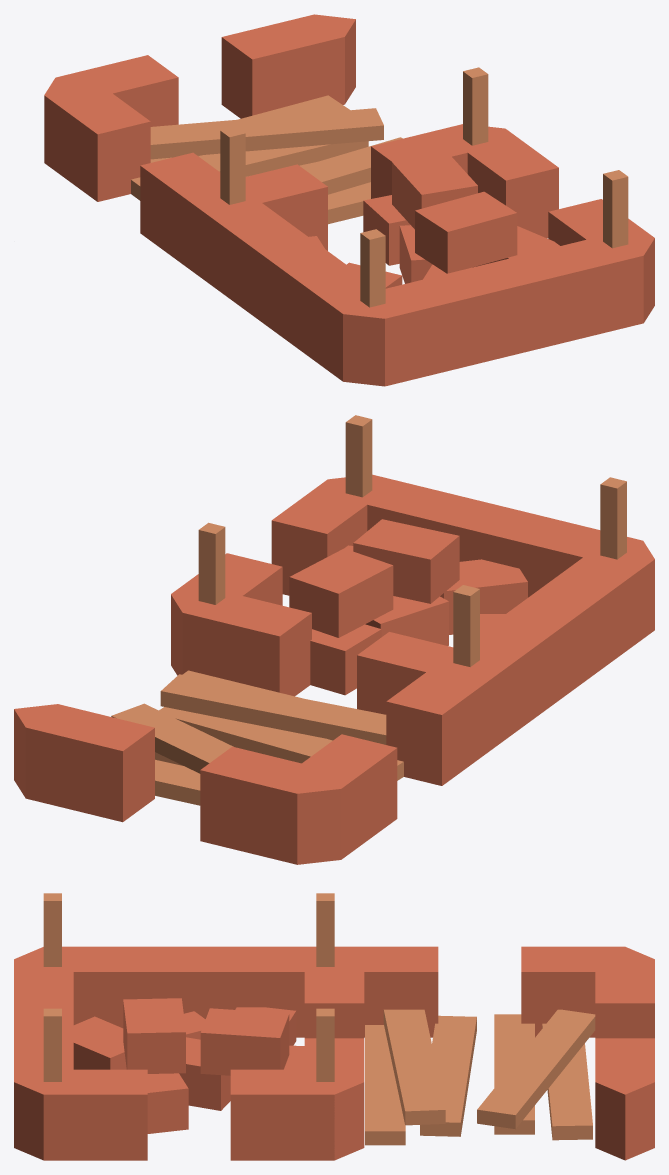
Rendered from Casa12Rota.FBX.
3 views of the same model, one above another, from view 1: azimuth 30°, elevation 25°; view 2: azimuth 150°, elevation 25°; view 3: azimuth 270°, elevation 25° (orthographic). The views are drawn at different scales.
Parts seen in each view (by area): view 1: wall_border_278; view 2: wall_border_278; view 3: wall_border_278.
Boxes of the visible parts, x1=… form: wall_border_278: x1=44, y1=14, x2=654, y2=386; wall_border_278: x1=14, y1=415, x2=654, y2=864; wall_border_278: x1=14, y1=893, x2=654, y2=1160.
Size of the model in its own units: 1602 by 500 by 2205.
